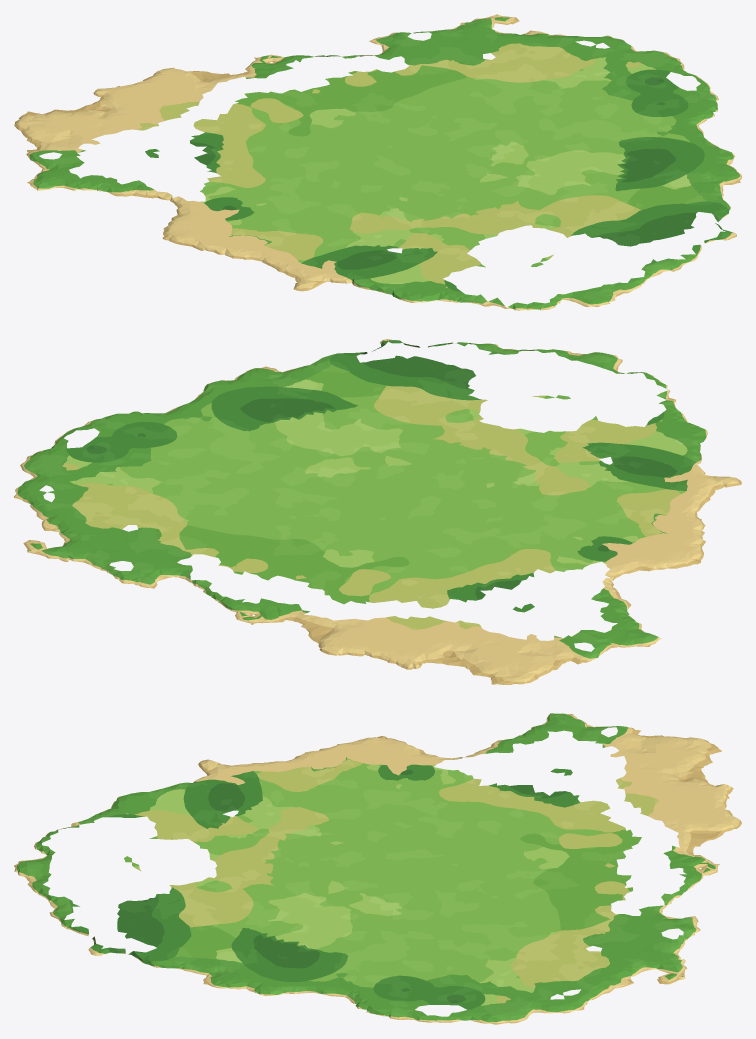
File: Isl-start5-Ground.fbx
The picture shows the model from 3 angles, top to bottom: view 1: azimuth 30°, elevation 25°; view 2: azimuth 150°, elevation 25°; view 3: azimuth 270°, elevation 25°; orthographic projection. The views are drawn at different scales.
Visible parts, largest first — view 1: Isl-start5-Ground-c22, Isl-start5-Ground-c12, Isl-start5-Ground-c21, Isl-start5-Ground-c11, Isl-start5-Ground-c20, Isl-start5-Ground-c10, Isl-start5-Ground-c32; view 2: Isl-start5-Ground-c22, Isl-start5-Ground-c12, Isl-start5-Ground-c21, Isl-start5-Ground-c11, Isl-start5-Ground-c32; view 3: Isl-start5-Ground-c22, Isl-start5-Ground-c21, Isl-start5-Ground-c12, Isl-start5-Ground-c11, Isl-start5-Ground-c32, Isl-start5-Ground-c20.
Boxes of the visible parts, bbox=[...] form: Isl-start5-Ground-c22: bbox=[266, 14, 704, 166]; Isl-start5-Ground-c12: bbox=[14, 56, 418, 230]; Isl-start5-Ground-c21: bbox=[419, 97, 741, 274]; Isl-start5-Ground-c11: bbox=[162, 166, 546, 308]; Isl-start5-Ground-c20: bbox=[586, 267, 680, 305]; Isl-start5-Ground-c10: bbox=[513, 290, 601, 310]; Isl-start5-Ground-c32: bbox=[644, 50, 717, 96]; Isl-start5-Ground-c22: bbox=[14, 422, 409, 621]; Isl-start5-Ground-c12: bbox=[243, 497, 682, 684]; Isl-start5-Ground-c21: bbox=[103, 339, 548, 496]; Isl-start5-Ground-c11: bbox=[410, 382, 741, 567]; Isl-start5-Ground-c32: bbox=[20, 421, 102, 475]; Isl-start5-Ground-c22: bbox=[396, 864, 717, 1013]; Isl-start5-Ground-c21: bbox=[52, 864, 399, 1013]; Isl-start5-Ground-c12: bbox=[396, 718, 741, 868]; Isl-start5-Ground-c11: bbox=[51, 736, 399, 865]; Isl-start5-Ground-c32: bbox=[397, 1009, 531, 1024]; Isl-start5-Ground-c20: bbox=[14, 864, 57, 916].
Bounding box in the file's own units: 97.41 × 0.4896 × 96.29.
